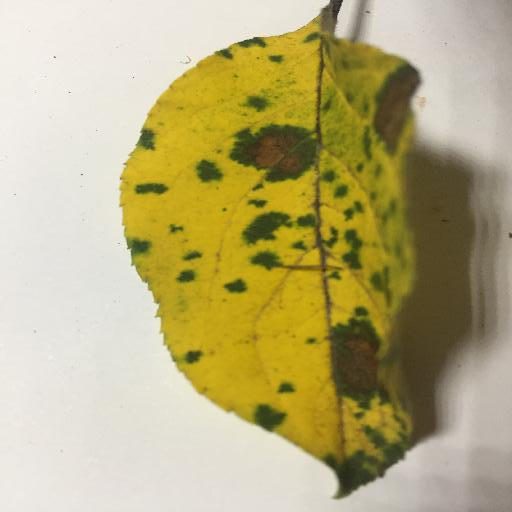Brown_Spot: (350, 47, 429, 156), (323, 318, 386, 404), (229, 124, 313, 178)
